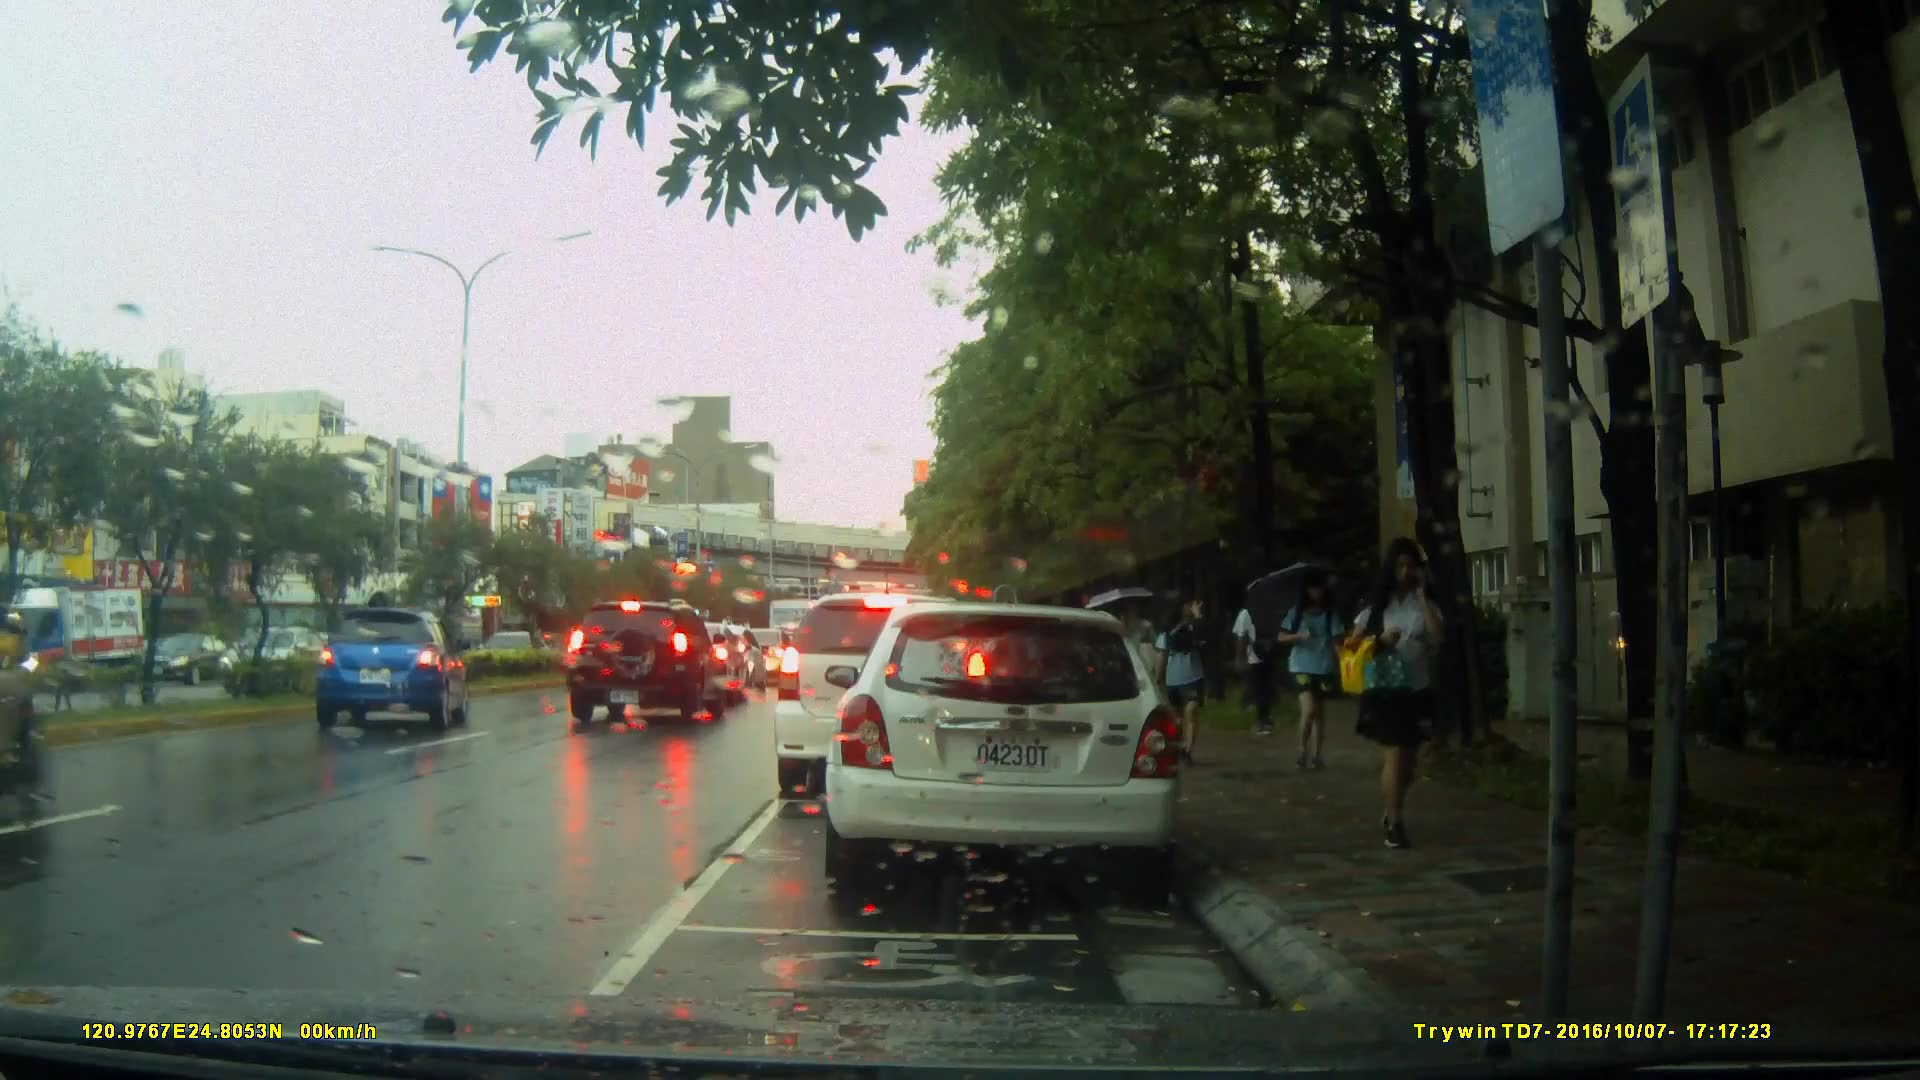pedestrian: (1361, 528, 1464, 852), (1277, 575, 1339, 777), (1159, 576, 1220, 761)
vehicle: (815, 593, 1204, 909), (771, 590, 995, 802), (562, 599, 730, 726), (312, 605, 471, 737), (1, 584, 150, 686)
